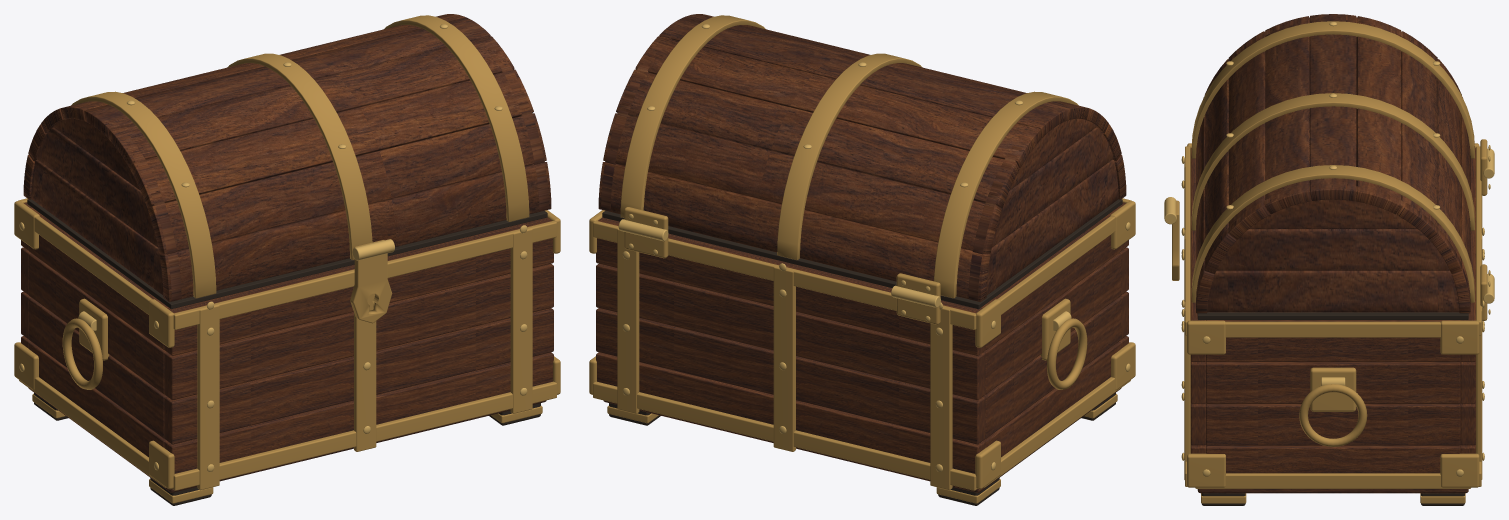
File: P029_treasure_chest_refined.glb
3 views of the same model, side by side, from view 1: azimuth 30°, elevation 25°; view 2: azimuth 150°, elevation 25°; view 3: azimuth 270°, elevation 25° (orthographic). The views are drawn at different scales.
Parts seen in each view (by area): view 1: Walnut_boards, Aged_brass_reinforcement, Recesses_and_iron_pins, Polished_brass_edges; view 2: Walnut_boards, Aged_brass_reinforcement, Recesses_and_iron_pins, Polished_brass_edges; view 3: Walnut_boards, Aged_brass_reinforcement, Recesses_and_iron_pins, Polished_brass_edges.
Boxes of the visible parts, x1,y1,x2,y2 form: Walnut_boards: (21, 14, 553, 492); Aged_brass_reinforcement: (14, 15, 560, 503); Recesses_and_iron_pins: (27, 199, 547, 505); Polished_brass_edges: (19, 24, 527, 471); Walnut_boards: (596, 14, 1128, 492); Aged_brass_reinforcement: (589, 15, 1135, 503); Recesses_and_iron_pins: (602, 199, 1122, 505); Polished_brass_edges: (618, 24, 1130, 471); Walnut_boards: (1190, 14, 1475, 493); Aged_brass_reinforcement: (1172, 21, 1487, 503); Recesses_and_iron_pins: (1197, 312, 1468, 505); Polished_brass_edges: (1164, 21, 1494, 476).
Size of the model in its own units: 0.72 by 0.5736 by 0.524.
Materials: 4 (1 with a texture image).
